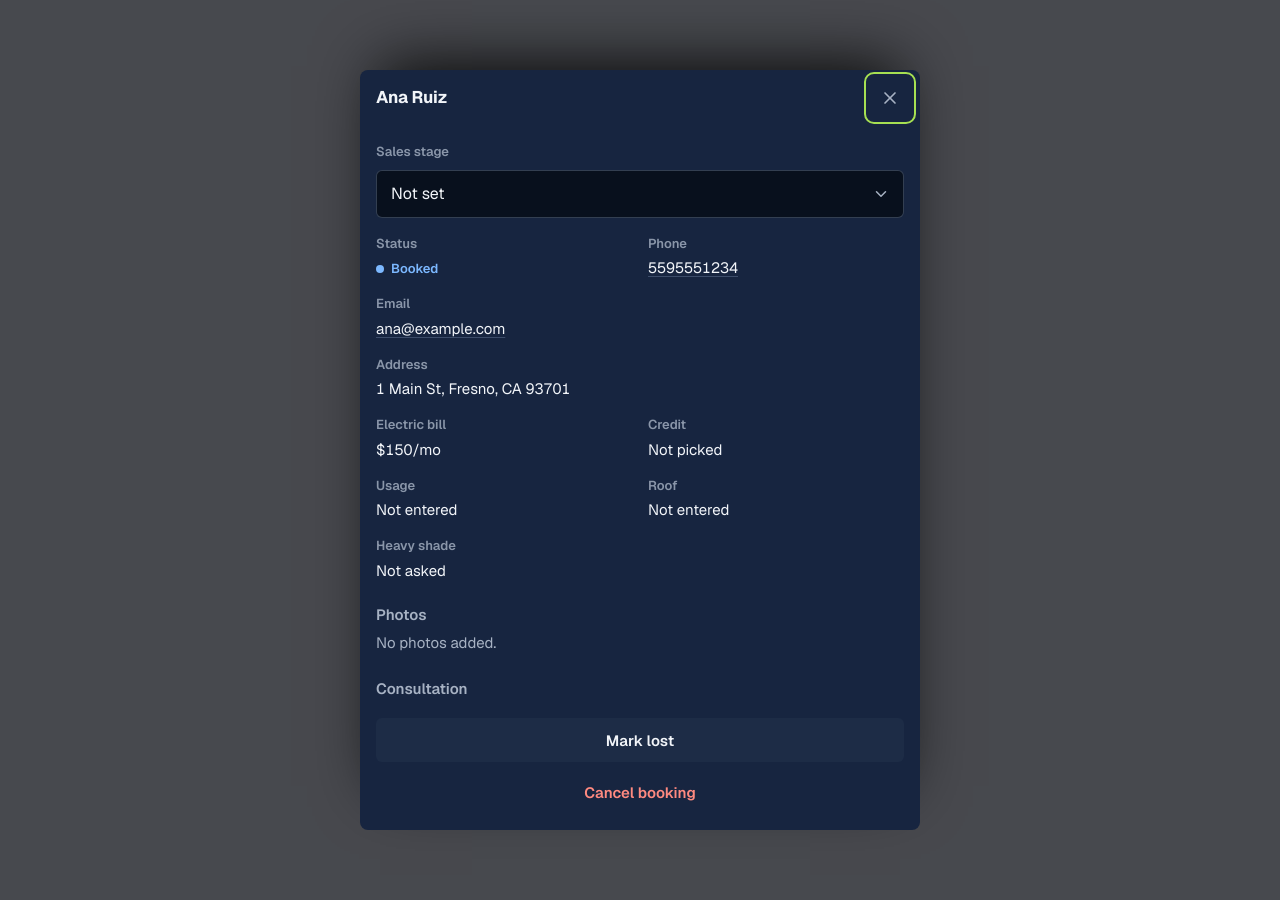
Test: LeadSheet stage picker › asks before No sale cancels the live booking; Back changes nothing
Select "Appointment demoed: No sale" in the dropdown named "Sales stage": (640, 194) [376,170,904,218]
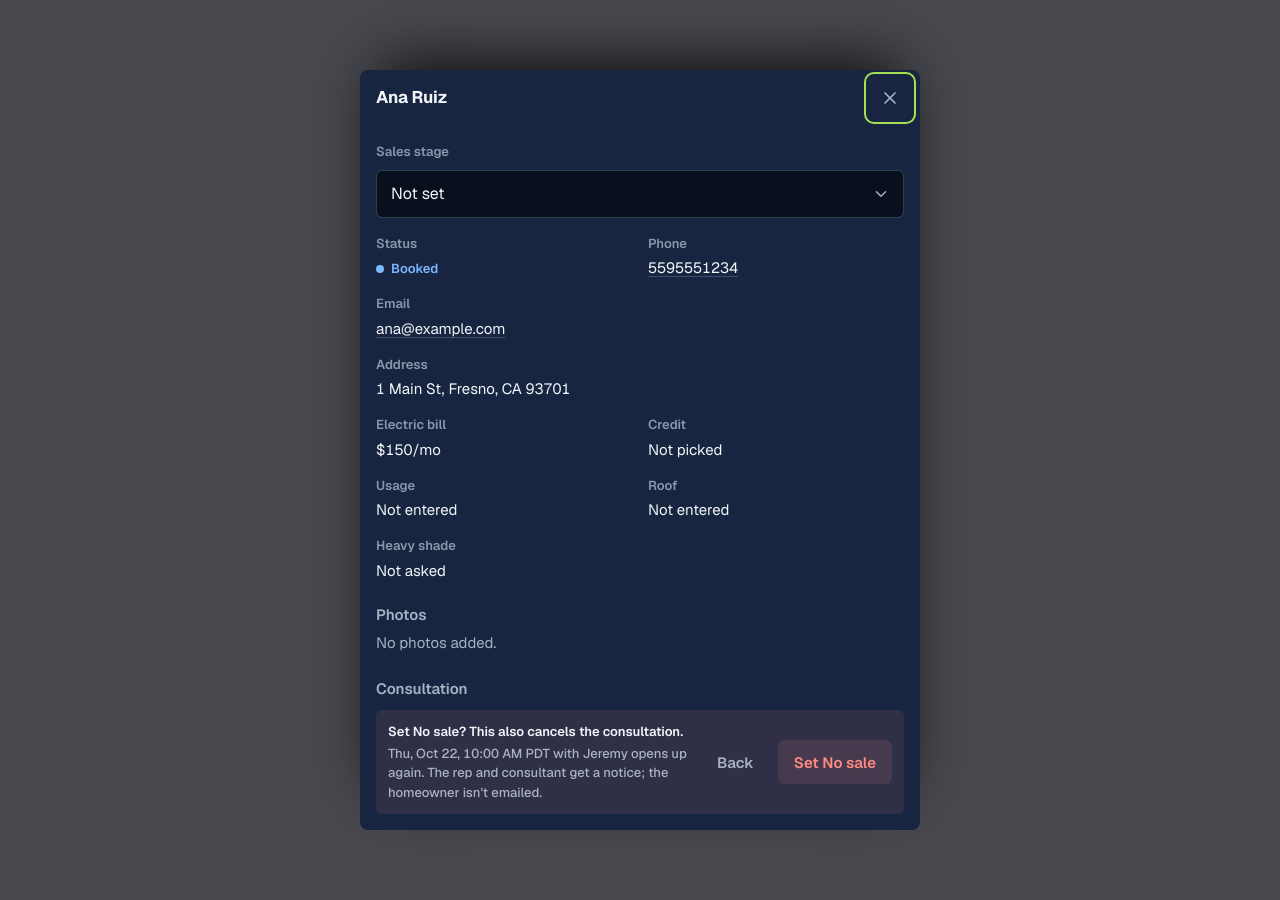
Result: the dialog shows "This also cancels the consultation." at [388,723,683,740]
Result: the dialog shows "Jeremy" at [388,744,687,800]
Click the button "Back": (735, 762) [701,740,770,784]
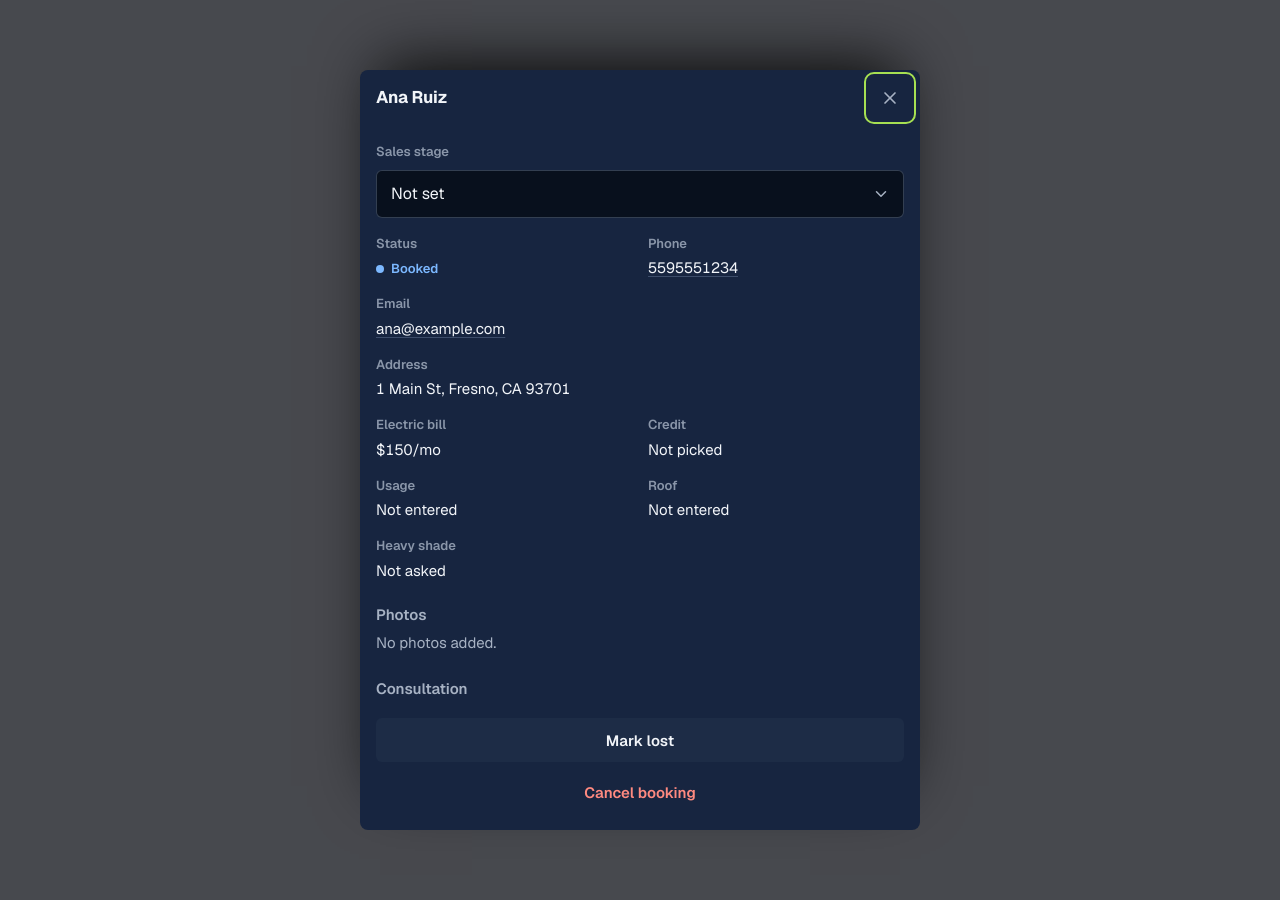
Result: the dialog is gone
